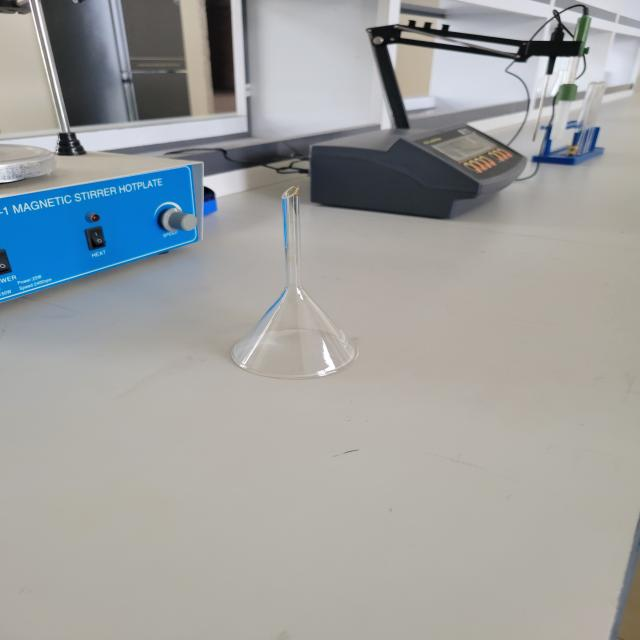Funnel: (188, 168, 396, 404)
